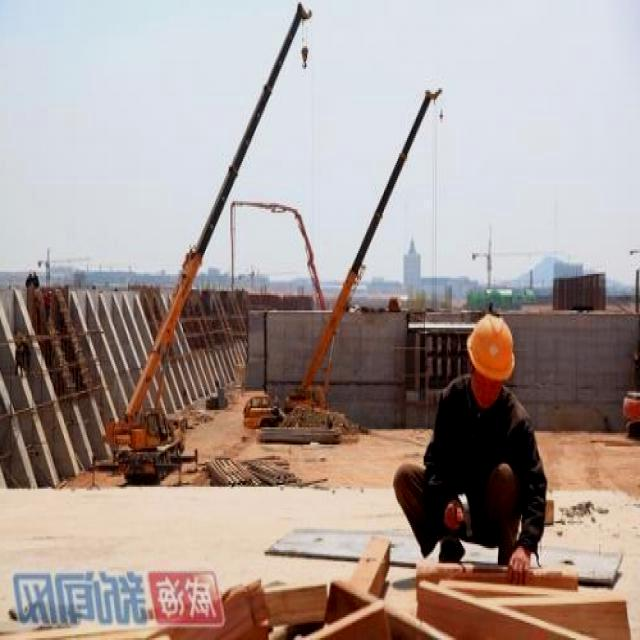face_nomask: (469, 371, 507, 411)
hand_noglove: (507, 545, 536, 588), (440, 498, 466, 533)
head_helmet: (466, 312, 519, 381)
person: (386, 312, 551, 582)
